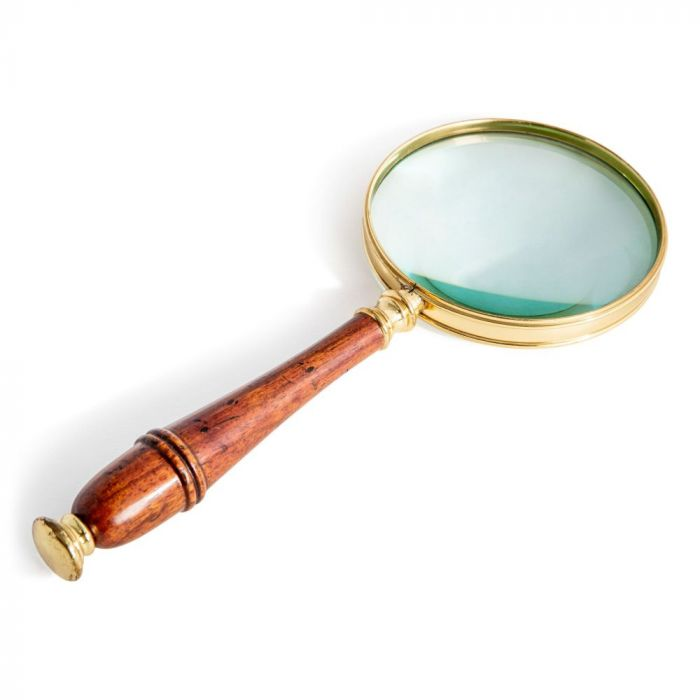magnifying-glass: (213, 69, 682, 463)
